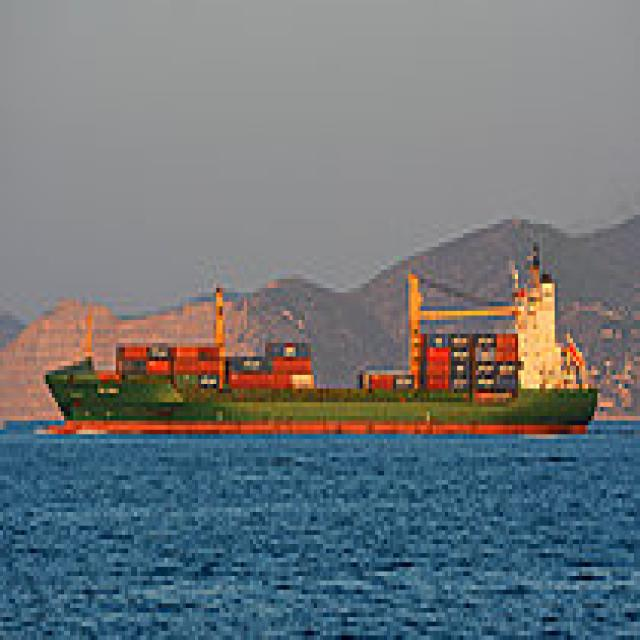Cargo: (40, 233, 597, 434)
